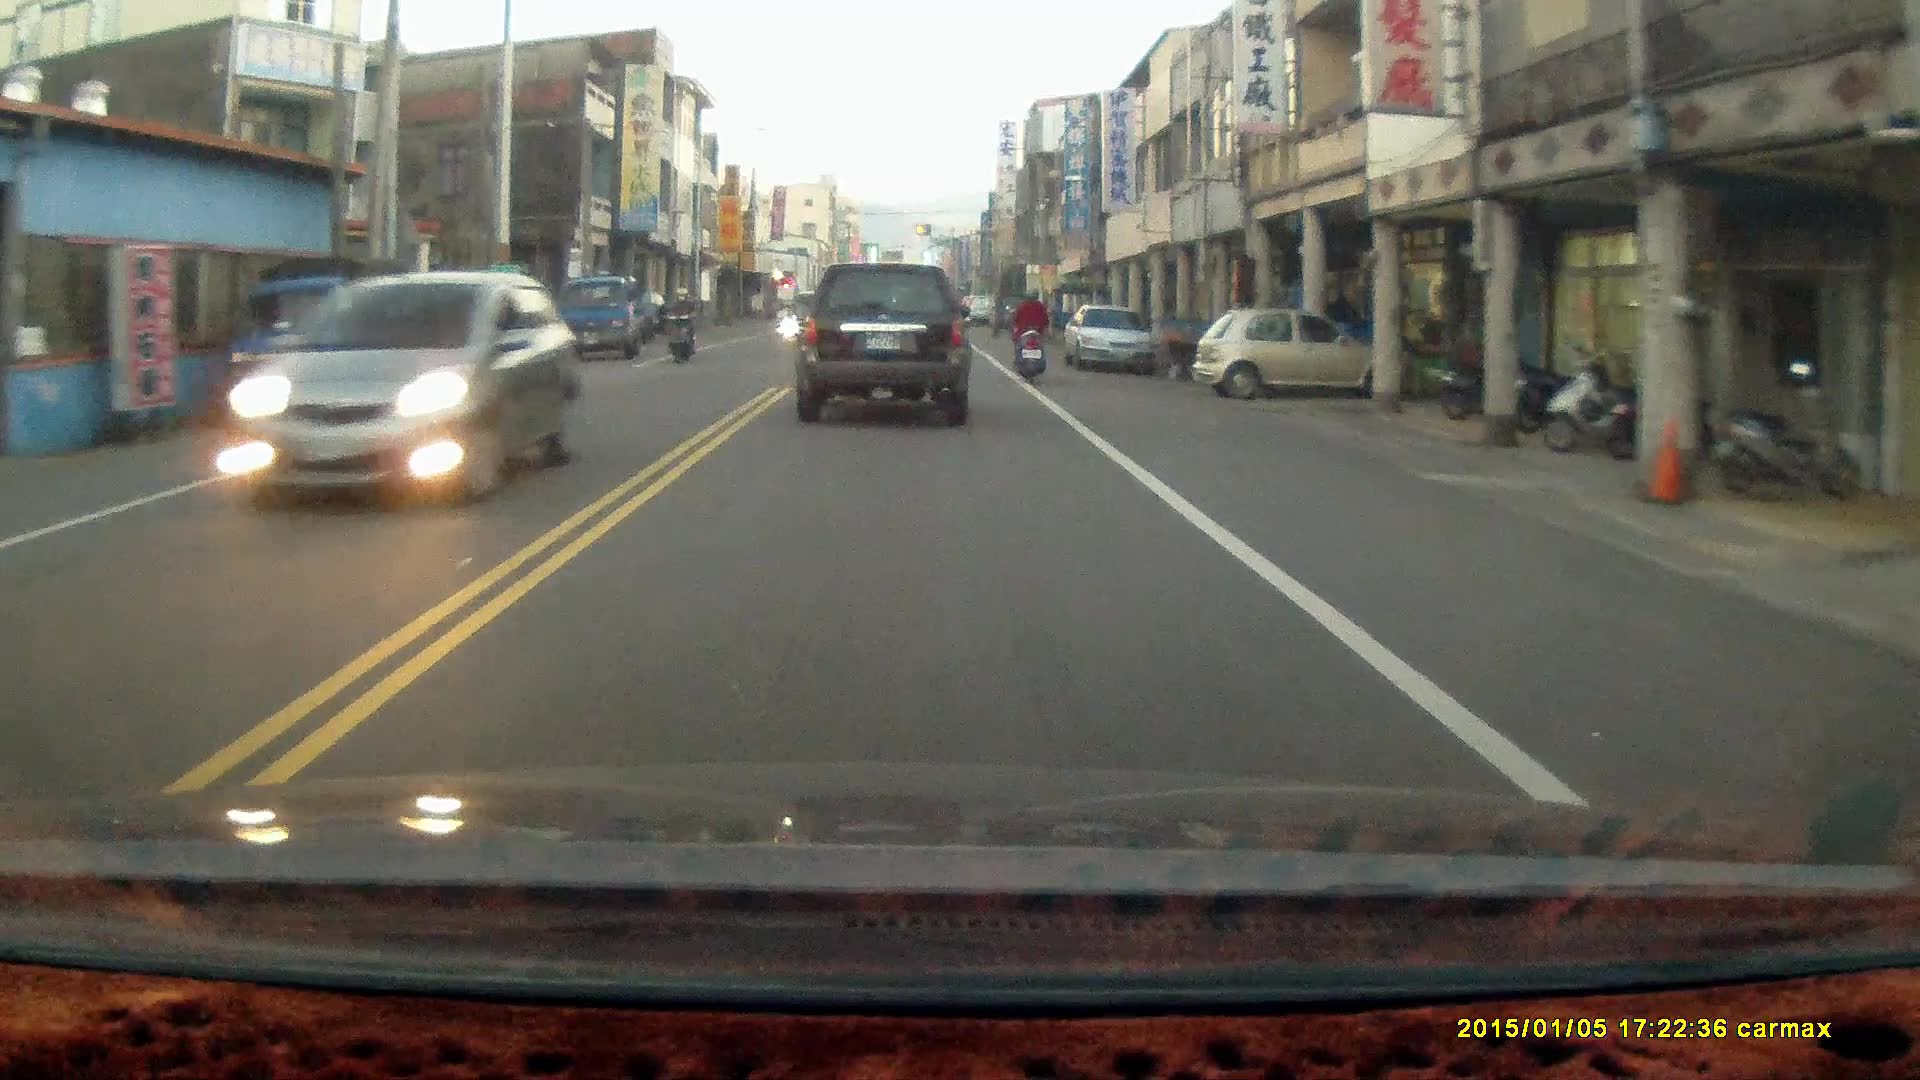rider: (1012, 283, 1051, 380), (663, 282, 695, 359)
vehicle: (211, 265, 586, 513), (794, 254, 974, 425), (1199, 302, 1404, 396), (556, 270, 671, 359), (1066, 302, 1161, 370)
